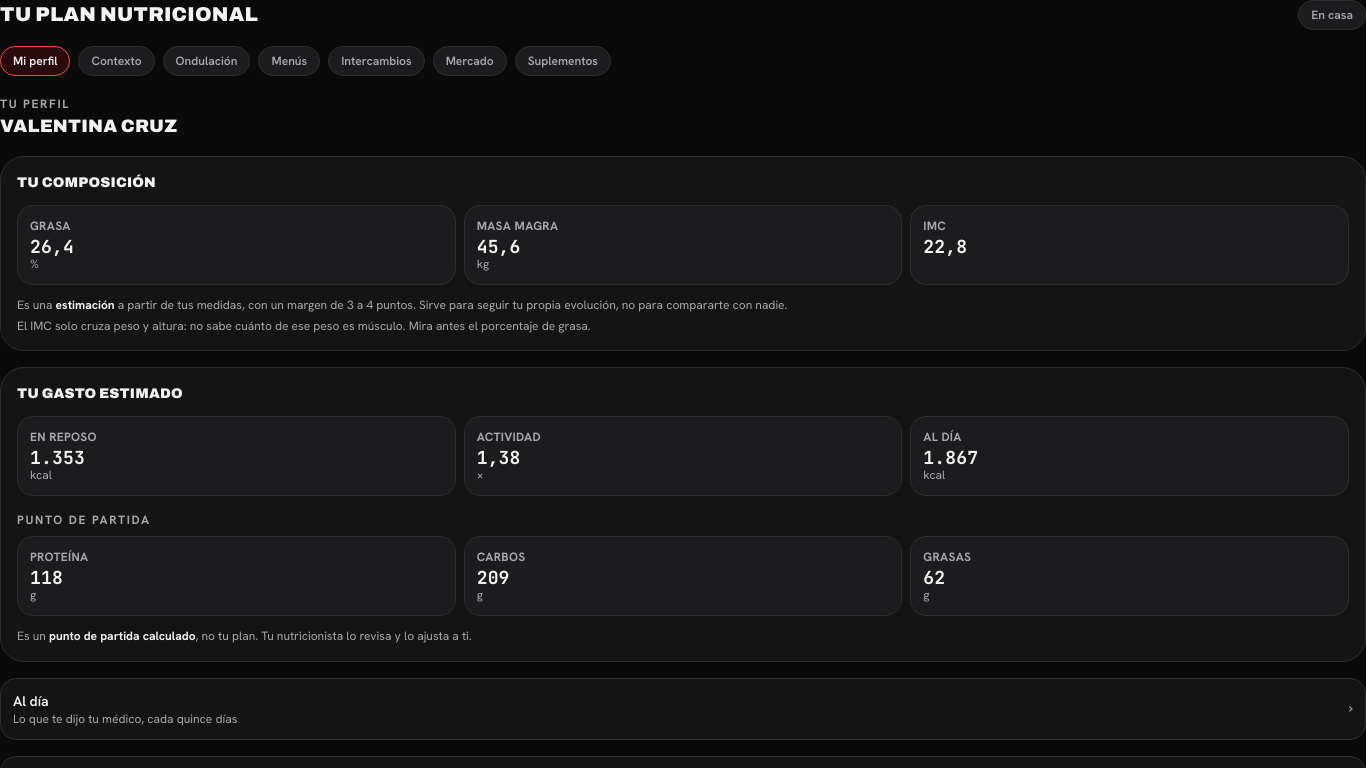
MiPlan › el contexto sigue estando, a un toque
Click the button "Contexto".
click(116, 61)  # box x1=78 y1=46 x2=154 y2=76
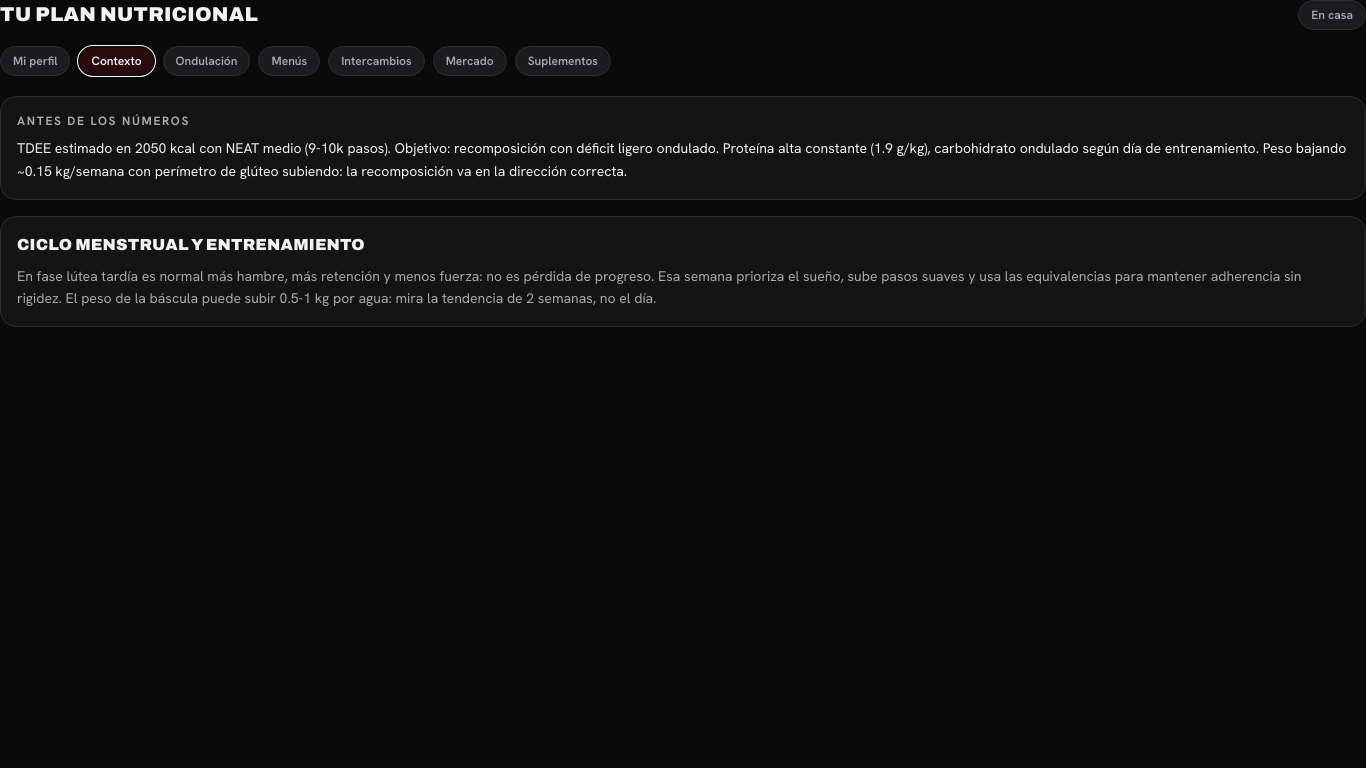
Now the text "Antes de los números" is shown, box x1=17 y1=113 x2=190 y2=129
